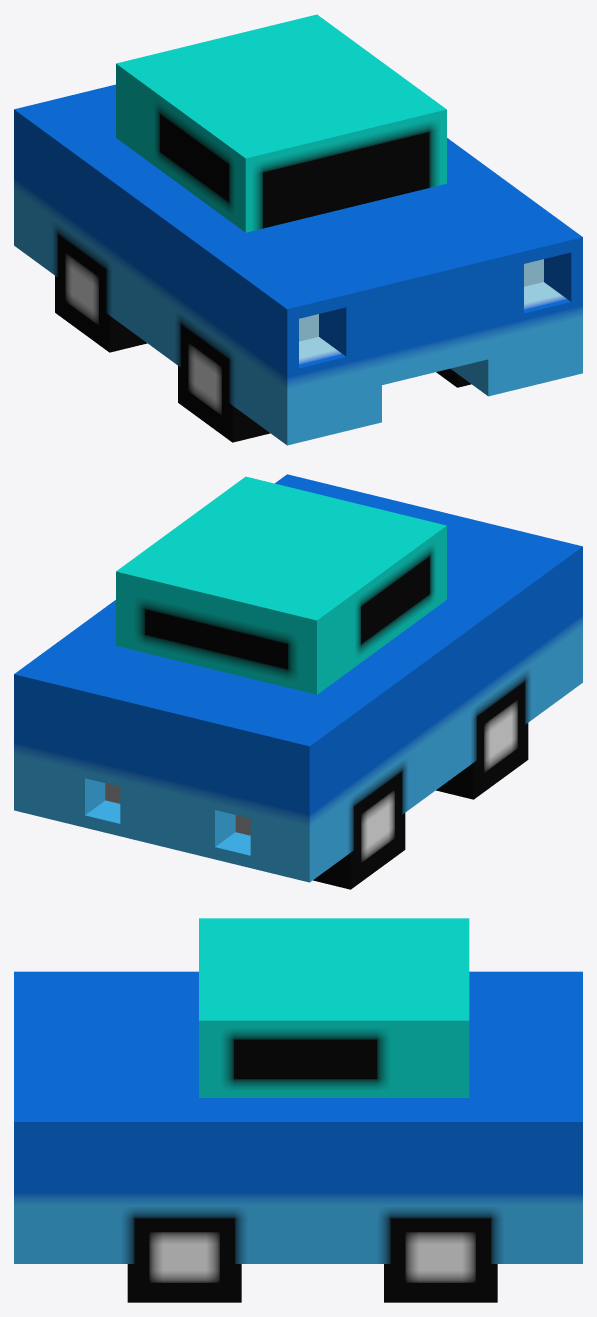
The model's file is Car.fbx.
3 views of the same model, one above another, from view 1: azimuth 30°, elevation 25°; view 2: azimuth 150°, elevation 25°; view 3: azimuth 270°, elevation 25° (orthographic). The views are drawn at different scales.
Visible parts, largest first — view 1: Car; view 2: Car; view 3: Car.
Part boxes in pixels (bbox=[...]): Car: bbox=[14, 14, 582, 445]; Car: bbox=[14, 474, 582, 889]; Car: bbox=[14, 918, 582, 1302].
Bounding box in the file's own units: 25 × 20 × 40.
Materials: 1 (1 with a texture image).
